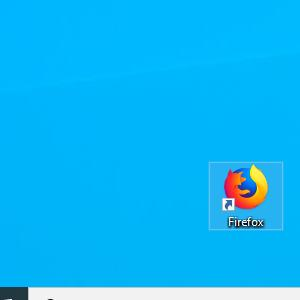firefox: (222, 163, 268, 211)
